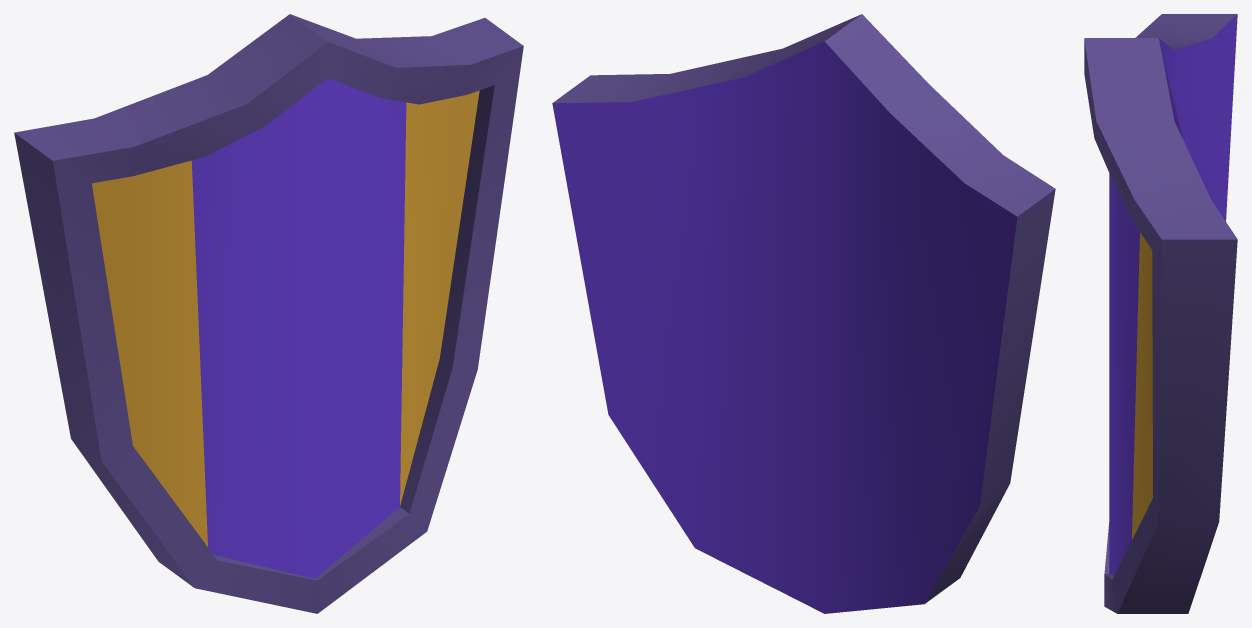
File: shield.fbx
The picture shows the model from 3 angles, left to right: view 1: azimuth 30°, elevation 25°; view 2: azimuth 150°, elevation 25°; view 3: azimuth 270°, elevation 25°; orthographic projection.
Visible parts, largest first — view 1: shield; view 2: shield; view 3: shield.
Boxes of the visible parts, x1,y1,x2,y2 form: shield: (14,14,523,613); shield: (552,14,1055,613); shield: (1084,14,1237,613).
Bounding box in the file's own units: 0.7012 × 0.8248 × 0.2017.
